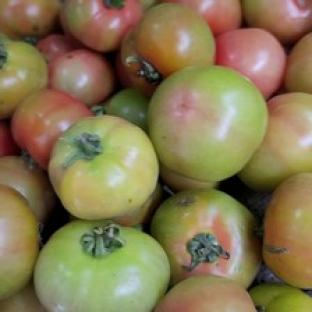Tomato: (148, 66, 267, 182), (34, 221, 169, 311), (49, 115, 158, 218), (151, 189, 261, 288), (120, 3, 215, 94), (239, 92, 311, 190), (12, 88, 93, 169), (262, 172, 311, 289), (216, 28, 286, 98), (0, 184, 38, 300), (0, 155, 57, 225), (0, 35, 48, 118), (48, 48, 115, 107), (155, 275, 256, 311), (112, 183, 164, 231), (102, 88, 149, 132), (248, 283, 311, 311), (283, 31, 311, 93), (161, 165, 218, 192), (0, 280, 45, 311), (37, 33, 80, 62), (265, 293, 311, 311), (0, 119, 20, 155)
